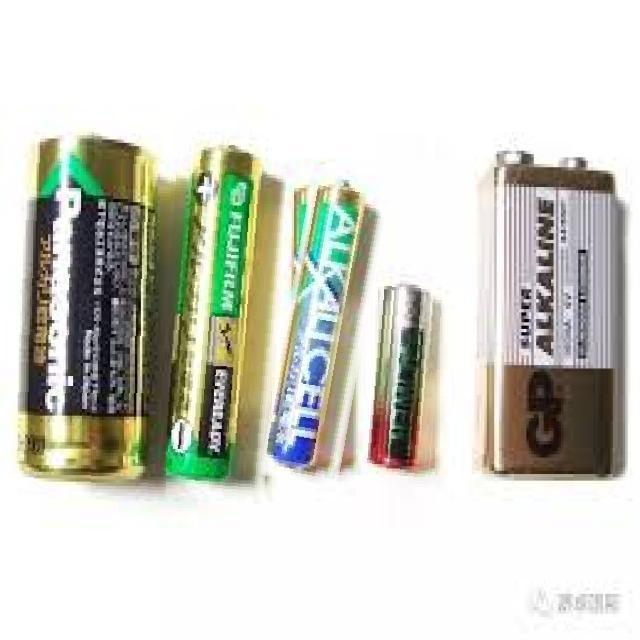Battery: (462, 128, 640, 483), (23, 118, 155, 483), (166, 144, 264, 487), (269, 173, 367, 472), (367, 279, 435, 472)
